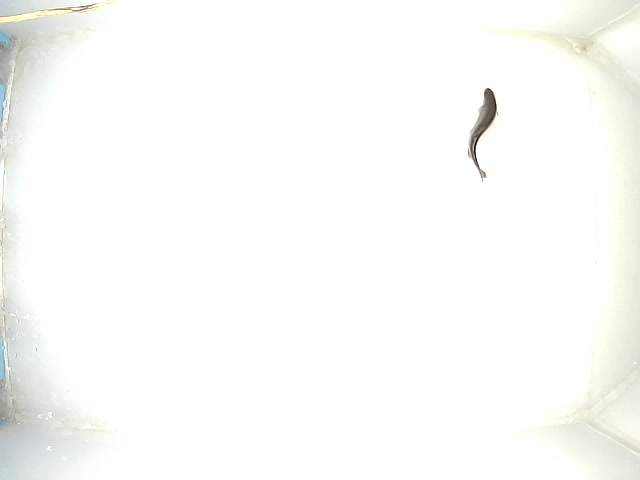fish: (467, 88, 499, 183)
